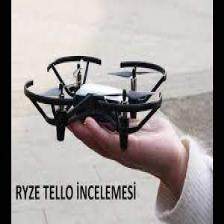drone: (24, 56, 167, 145)
